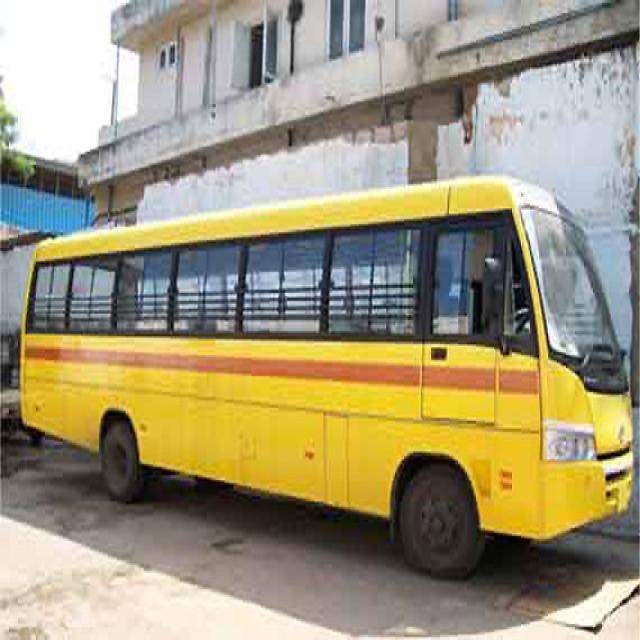bus: (18, 174, 634, 582)
